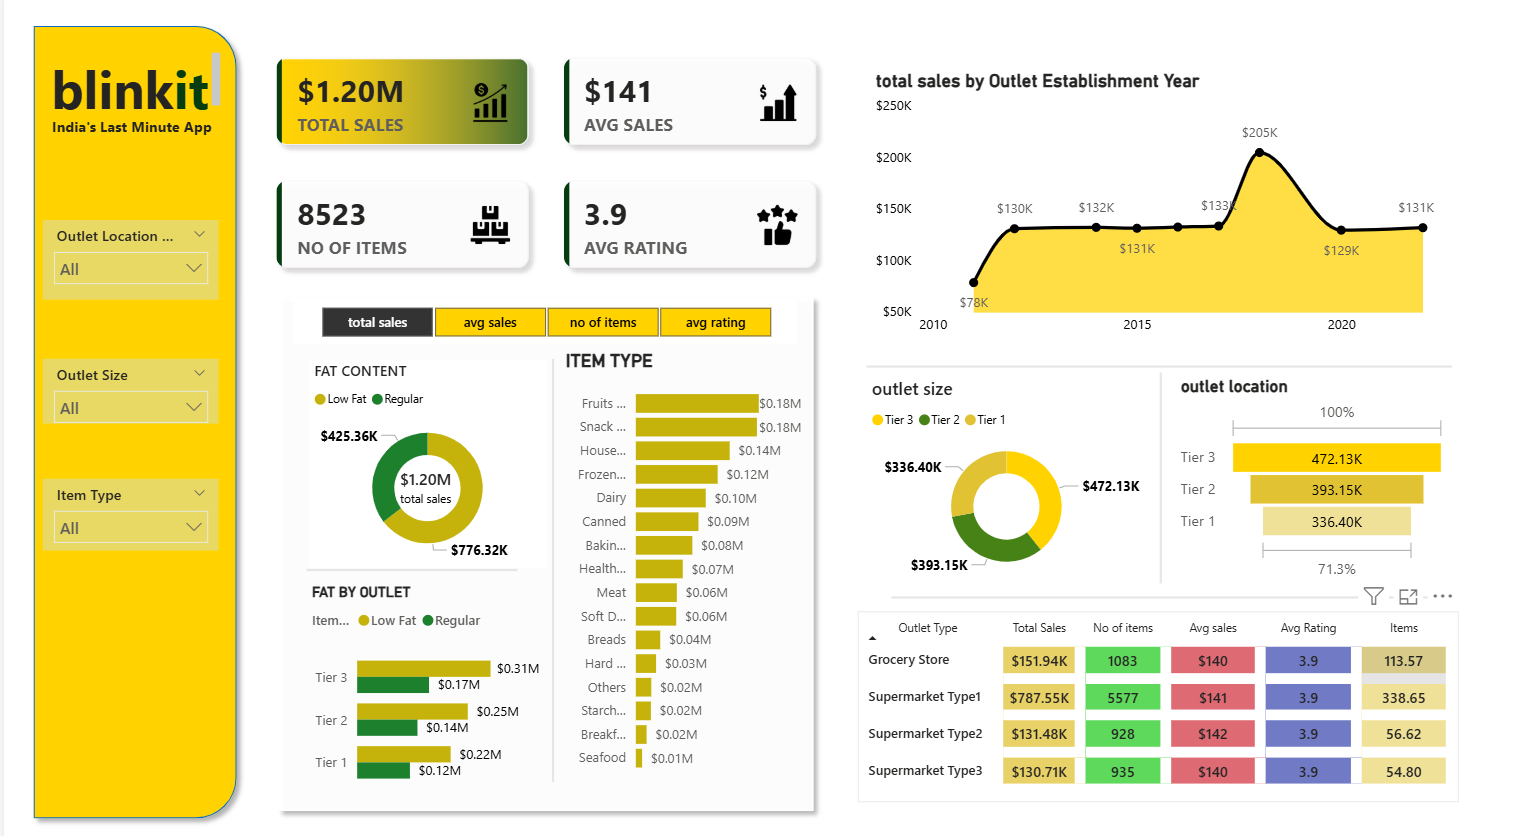

What the dashboard file says about the page in this screenshot:
{"tool":"powerbi","page":{"name":"Page 1","canvas":[1400,800],"ordinal":0},"visuals":[{"type":"shape","box":[18.1,24.5,205.3,750],"z":0},{"type":"textbox","box":[36.2,53.2,169.1,66],"z":1000},{"type":"textbox","box":[36.2,111.7,164.9,29.8],"z":2000},{"type":"cardVisual","fields":{"Data":["BlinkIT Grocery Data.total sales","BlinkIT Grocery Data.avg sales","BlinkIT Grocery Data.no of items","BlinkIT Grocery Data.avg rating"]},"box":[223.4,34,556.4,252.1],"z":3000},{"type":"shape","box":[244.7,274.5,511.7,492.6],"z":4000},{"type":"donutChart","title":"FAT CONTENT","fields":{"Y":["BlinkIT Grocery Data.total sales"],"Category":["BlinkIT Grocery Data.Item Fat Content"]},"box":[282,341.5,219.2,191.7],"z":5000},{"type":"slicer","fields":{"Values":["METRICS.METRICS"]},"box":[267.7,286.4,464.8,40.8],"z":6000},{"type":"cardVisual","fields":{"Data":["BlinkIT Grocery Data.total sales"]},"box":[328.2,423,123.4,72.7],"z":7000},{"type":"clusteredBarChart","title":"FAT BY OUTLET","fields":{"Y":["BlinkIT Grocery Data.total sales"],"Category":["BlinkIT Grocery Data.Outlet Location Type"],"Series":["BlinkIT Grocery Data.Item Fat Content"]},"box":[279.8,548.5,220.3,202.7],"z":8000},{"type":"shape","box":[501.2,340.4,12.1,391],"z":9000},{"type":"shape","box":[279.8,523.2,195,25.3],"z":10000},{"type":"barChart","title":"ITEM TYPE","fields":{"Y":["BlinkIT Grocery Data.total sales"],"Category":["BlinkIT Grocery Data.Item Type"]},"box":[513.3,332.7,228,399.8],"z":11000},{"type":"shape","box":[788.7,60.6,556.3,713.8],"z":12000},{"type":"lineChart","fields":{"Y":["BlinkIT Grocery Data.total sales"],"Category":["BlinkIT Grocery Data.Outlet Establishment Year"]},"box":[800.8,73.8,528.7,253.3],"z":13000},{"type":"shape","box":[796.4,341.5,540.8,12.1],"z":14000},{"type":"donutChart","title":"outlet size","fields":{"Y":["BlinkIT Grocery Data.total sales"],"Category":["BlinkIT Grocery Data.Outlet Location Type"]},"box":[796.4,356.9,258.9,191.7],"z":15000},{"type":"shape","box":[1055.2,353.6,26.4,195],"z":16000},{"type":"funnel","title":"outlet location","fields":{"Category":["BlinkIT Grocery Data.Outlet Location Type"],"Y":["Sum(BlinkIT Grocery Data.Sales)"]},"box":[1081.7,356.9,255.5,191.7],"z":17000},{"type":"shape","box":[819.5,548.5,510,25.3],"z":18000},{"type":"pivotTable","fields":{"Rows":["BlinkIT Grocery Data.Outlet Type"],"Values":["BlinkIT Grocery Data.total sales","BlinkIT Grocery Data.no of items","BlinkIT Grocery Data.avg sales","BlinkIT Grocery Data.avg rating","Sum(BlinkIT Grocery Data.Item Visibility)"]},"box":[788.5,573.6,555.8,176.8],"z":18001},{"type":"slicer","fields":{"Values":["BlinkIT Grocery Data.Outlet Location Type"]},"box":[35.6,212.4,162.8,73.8],"z":18002},{"type":"slicer","fields":{"Values":["BlinkIT Grocery Data.Outlet Size"]},"box":[35.6,340.8,162.8,59.8],"z":18003},{"type":"slicer","fields":{"Values":["BlinkIT Grocery Data.Item Type"]},"box":[35.6,451.5,162.8,66.1],"z":18004}]}

Visuals, with their boxes on the page's 1400x800 design canvas (x1, y1, x2, y2). These are canvas units, not pixel positions in the 1519x836 screenshot, which may show the page scaled, cropped or inside an application window:
shape: box(18, 24, 223, 774)
textbox: box(36, 53, 205, 119)
textbox: box(36, 112, 201, 142)
cardVisual - BlinkIT Grocery Data.total sales x BlinkIT Grocery Data.avg sales: box(223, 34, 780, 286)
shape: box(245, 274, 756, 767)
"FAT CONTENT" donutChart: box(282, 342, 501, 533)
slicer - METRICS.METRICS: box(268, 286, 732, 327)
cardVisual - BlinkIT Grocery Data.total sales: box(328, 423, 452, 496)
"FAT BY OUTLET" clusteredBarChart: box(280, 548, 500, 751)
shape: box(501, 340, 513, 731)
shape: box(280, 523, 475, 548)
"ITEM TYPE" barChart: box(513, 333, 741, 732)
shape: box(789, 61, 1345, 774)
lineChart - BlinkIT Grocery Data.total sales x BlinkIT Grocery Data.Outlet Establishment Year: box(801, 74, 1330, 327)
shape: box(796, 342, 1337, 354)
"outlet size" donutChart: box(796, 357, 1055, 549)
shape: box(1055, 354, 1082, 549)
"outlet location" funnel: box(1082, 357, 1337, 549)
shape: box(820, 548, 1330, 574)
pivotTable - BlinkIT Grocery Data.Outlet Type x BlinkIT Grocery Data.total sales: box(788, 574, 1344, 750)
slicer - BlinkIT Grocery Data.Outlet Location Type: box(36, 212, 198, 286)
slicer - BlinkIT Grocery Data.Outlet Size: box(36, 341, 198, 401)
slicer - BlinkIT Grocery Data.Item Type: box(36, 452, 198, 518)
